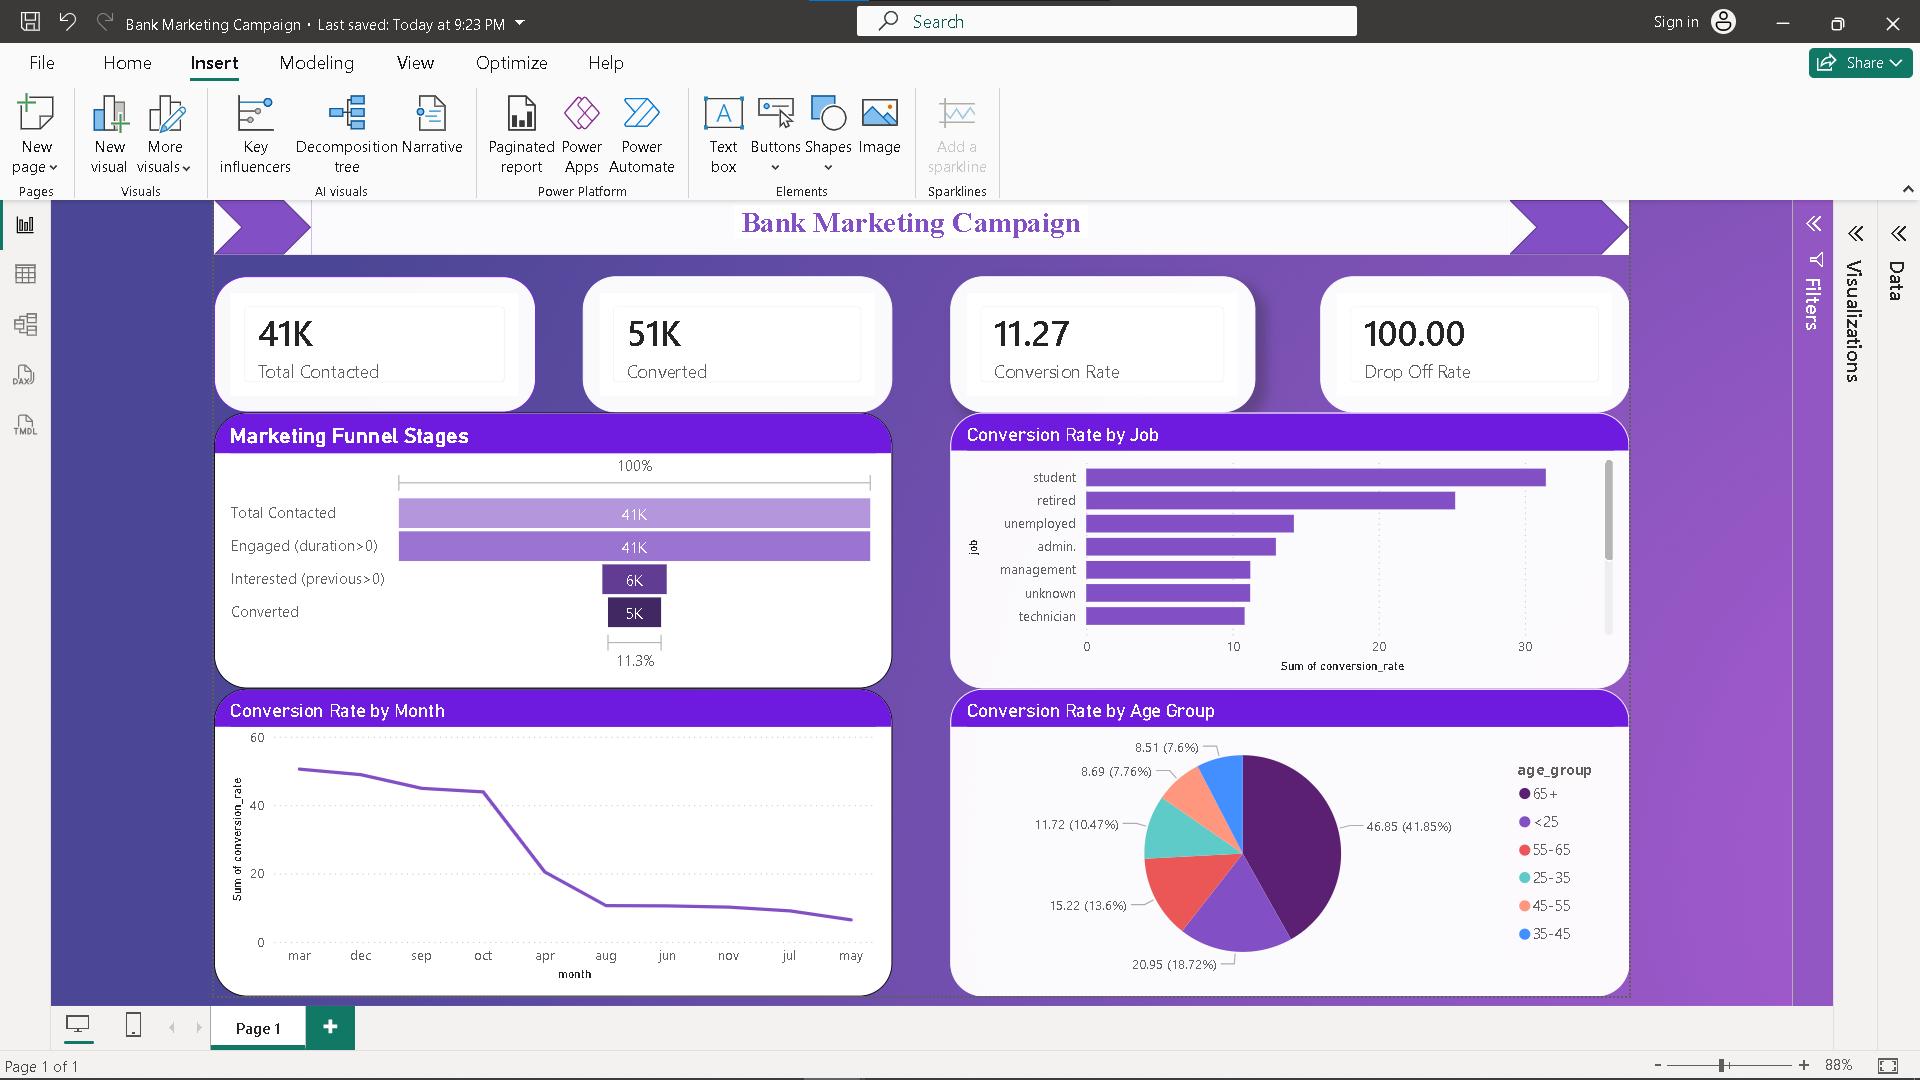

Layout of this report page (visuals, bound fields, positions):
{"tool":"powerbi","page":{"name":"Page 1","canvas":[1280,720],"ordinal":0},"visuals":[{"type":"cardVisual","fields":{"Data":["Sum(funnel_stages.Count)"]},"box":[0,68.6,290.9,123.5],"z":0},{"type":"cardVisual","fields":{"Data":["Sum(funnel_stages.Conversion_Rate)"]},"box":[1000.3,68.6,279.9,123.5],"z":1000},{"type":"cardVisual","fields":{"Data":["Sum(funnel_stages.Conversion_Rate)"]},"box":[665.5,68.6,275.8,123.5],"z":2000},{"type":"cardVisual","fields":{"Data":["Sum(funnel_stages.Total Contacted)"]},"box":[333.4,68.6,279.9,123.5],"z":3000},{"type":"funnel","title":"Marketing Funnel Stages","fields":{"Category":["funnel_stages.Stage"],"Y":["Sum(funnel_stages.count)"]},"box":[0,192.1,613.4,249.7],"z":4000},{"type":"clusteredBarChart","title":"Conversion Rate by Job","fields":{"Category":["conversion_by_job.job"],"Y":["Sum(conversion_by_job.conversion_rate)"]},"box":[665.5,192.1,614.8,249.7],"z":5000},{"type":"lineChart","title":"Conversion Rate by Month","fields":{"Category":["conversion_by_month.month"],"Y":["Sum(conversion_by_month.conversion_rate)"]},"box":[0,441.9,613.4,278.6],"z":6000},{"type":"pieChart","title":"Conversion Rate by Age Group","fields":{"Category":["conversion_by_age.age_group"],"Y":["Sum(conversion_by_age.conversion_rate)"]},"box":[665.5,441.9,614.8,278.6],"z":6001},{"type":"shape","box":[0,0,1280.3,49.4],"z":6002},{"type":"shape","box":[0,0,87.8,49.4],"z":6003},{"type":"shape","box":[1171.9,0,108.4,49.4],"z":6004},{"type":"textbox","box":[87.8,0,1084.1,49.4],"z":6005}]}

Visuals, with their boxes on the page's 1280x720 design canvas (x1, y1, x2, y2). These are canvas units, not pixel positions in the 1920x1080 screenshot, which may show the page scaled, cropped or inside an application window:
cardVisual - Sum(funnel_stages.Count): {"left": 0, "top": 69, "right": 291, "bottom": 192}
cardVisual - Sum(funnel_stages.Conversion_Rate): {"left": 1000, "top": 69, "right": 1280, "bottom": 192}
cardVisual - Sum(funnel_stages.Conversion_Rate): {"left": 666, "top": 69, "right": 941, "bottom": 192}
cardVisual - Sum(funnel_stages.Total Contacted): {"left": 333, "top": 69, "right": 613, "bottom": 192}
"Marketing Funnel Stages" funnel: {"left": 0, "top": 192, "right": 613, "bottom": 442}
"Conversion Rate by Job" clusteredBarChart: {"left": 666, "top": 192, "right": 1280, "bottom": 442}
"Conversion Rate by Month" lineChart: {"left": 0, "top": 442, "right": 613, "bottom": 720}
"Conversion Rate by Age Group" pieChart: {"left": 666, "top": 442, "right": 1280, "bottom": 720}
shape: {"left": 0, "top": 0, "right": 1280, "bottom": 49}
shape: {"left": 0, "top": 0, "right": 88, "bottom": 49}
shape: {"left": 1172, "top": 0, "right": 1280, "bottom": 49}
textbox: {"left": 88, "top": 0, "right": 1172, "bottom": 49}
